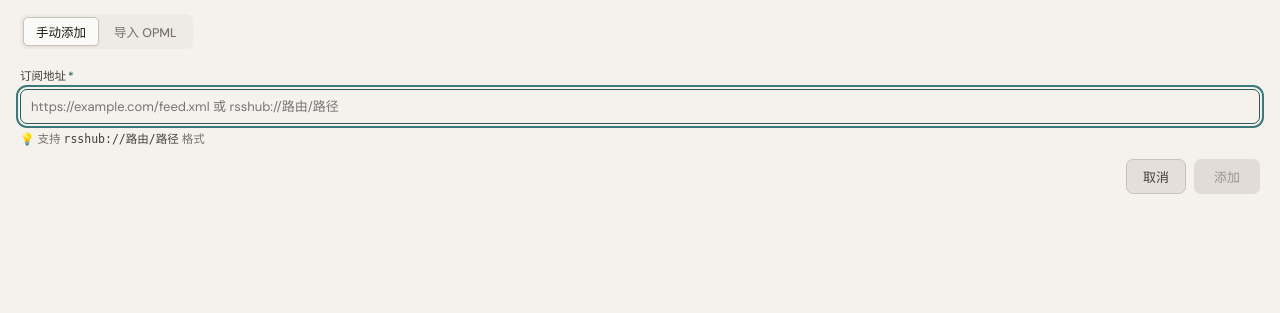
Scenario: AddFeedPanel — OPML tab › shows the dropzone after switching tabs
Click the button "导入 OPML" at (145, 32), box [101,17,190,46]
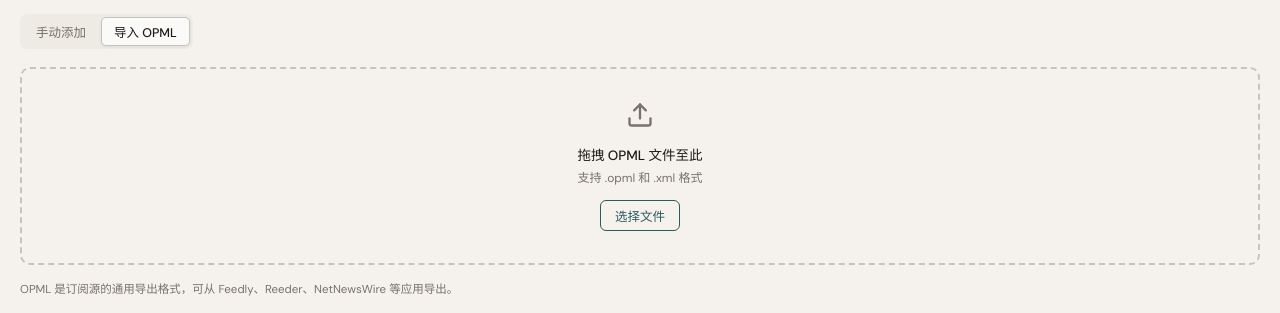
Now the text "拖拽 OPML 文件至此" is shown, box [577,147,703,164]
